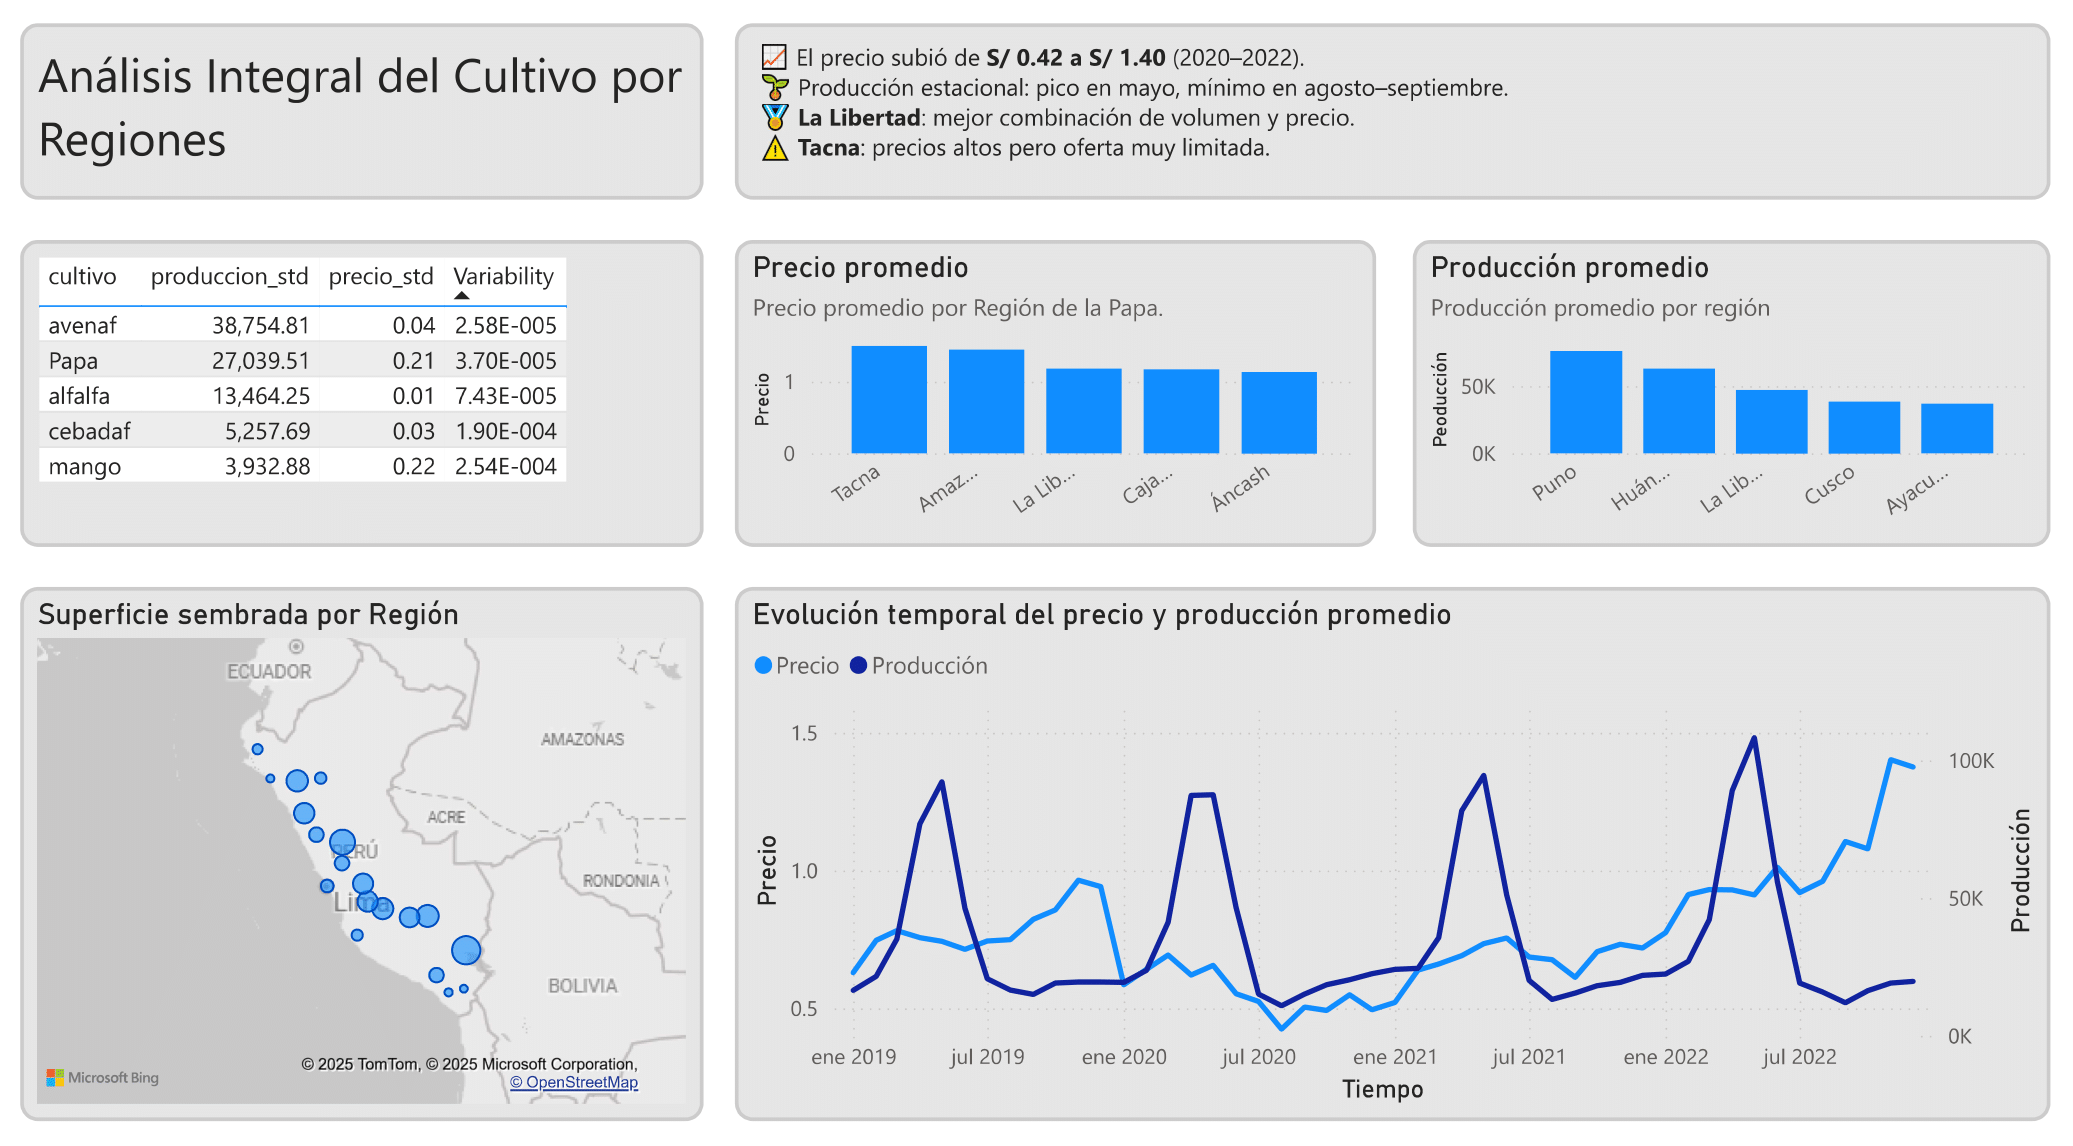

The page's visual inventory and layout, read from the dashboard file:
{"tool":"powerbi","page":{"name":"Papa","canvas":[1280,720],"ordinal":1},"visuals":[{"type":"textbox","box":[46.7,55,388.3,100],"z":0},{"type":"tableEx","title":"Estabilildad","fields":{"Values":["stdCultivos.cultivo","stdCultivos.produccion_std","stdCultivos.precio_std","Metrics.Stability"]},"box":[46.7,178.3,388.3,173.3],"z":1000},{"type":"lineChart","title":"Evolución temporal del precio y producción promedio","fields":{"Y":["Papa.precio"],"Category":["Papa.d-m-y.Variation.Date Hierarchy.Year","Papa.d-m-y.Variation.Date Hierarchy.Quarter","Papa.d-m-y.Variation.Date Hierarchy.Month","Papa.d-m-y.Variation.Date Hierarchy.Day"],"Y2":["Papa.produccion"]},"box":[453.3,375,746.7,303.3],"z":2000},{"type":"clusteredColumnChart","title":"Precio promedio","fields":{"Category":["Papa.Región"],"Y":["Papa.precio"]},"box":[453.3,178.3,363.3,173.3],"z":3000},{"type":"clusteredColumnChart","title":"Producción promedio","fields":{"Category":["Papa.Región"],"Y":["Papa.produccion"]},"box":[838.3,178.3,361.7,173.3],"z":4000},{"type":"map","title":"Superficie sembrada por Región","fields":{"Y":["regiones.latitude"],"X":["regiones.longitude"],"Size":["Papa.sembrada"]},"box":[46.7,375,388.3,303.3],"z":5000},{"type":"textbox","box":[453.3,55,746.7,100],"z":6000}]}

Visuals, with their boxes in screenshot pixels (x1, y1, x2, y2), scaled from the page's 1280x720 canvas onto the 2073x1146 screenshot:
textbox: left=76, top=88, right=704, bottom=247
"Estabilildad" tableEx: left=76, top=284, right=704, bottom=560
"Evolución temporal del precio y producción promedio" lineChart: left=734, top=597, right=1943, bottom=1080
"Precio promedio" clusteredColumnChart: left=734, top=284, right=1323, bottom=560
"Producción promedio" clusteredColumnChart: left=1358, top=284, right=1943, bottom=560
"Superficie sembrada por Región" map: left=76, top=597, right=704, bottom=1080
textbox: left=734, top=88, right=1943, bottom=247
